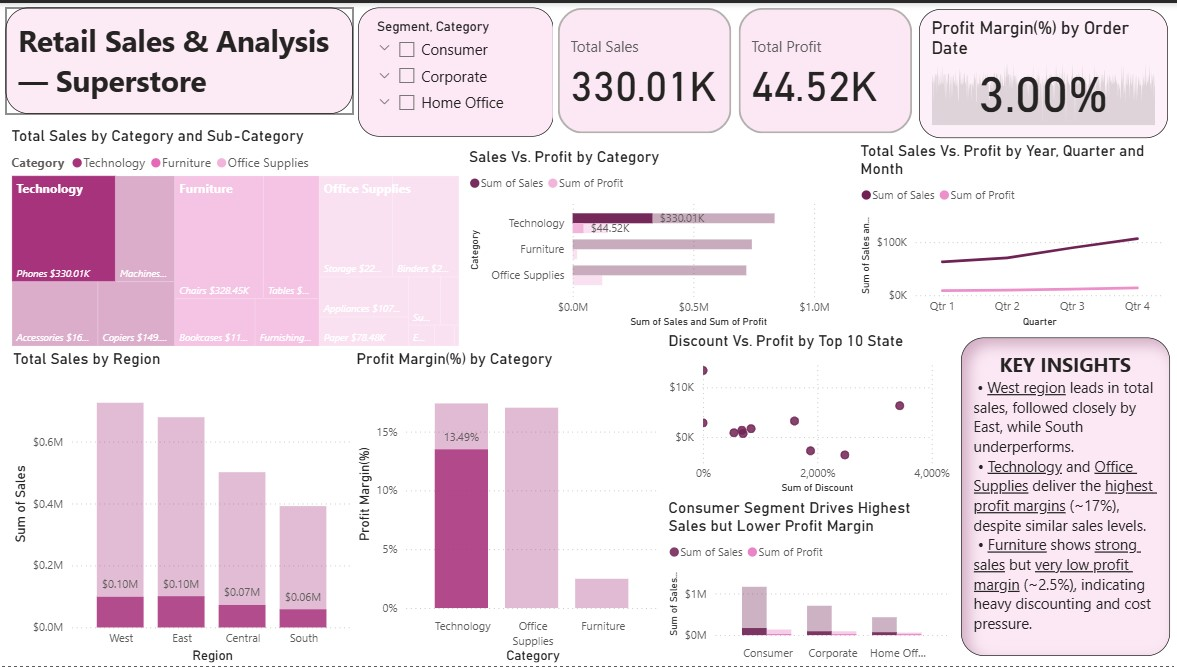

This screenshot's page, from the dashboard's own definition file:
{"tool":"powerbi","page":{"name":"Page 1","canvas":[1280,720],"ordinal":0},"visuals":[{"type":"treemap","title":"Total Sales by Category and Sub-Category","fields":{"Group":["Sample_ Superstore.Category"],"Values":["Sum(Sample_ Superstore.Sales)"],"Details":["Sample_ Superstore.Sub-Category"]},"box":[10,133.3,495,243.3],"z":0},{"type":"clusteredBarChart","title":"Sales Vs. Profit by Category","fields":{"Category":["Sample_ Superstore.Category"],"Y":["Sum(Sample_ Superstore.Sales)","Sum(Sample_ Superstore.Profit)"]},"box":[506,156,412,200],"z":1000},{"type":"columnChart","title":"Total Sales by Region","fields":{"Category":["Sample_ Superstore.Region"],"Y":["Sum(Sample_ Superstore.Sales)"]},"box":[12,376,378,344],"z":2000},{"type":"lineChart","title":"Total Sales Vs. Profit by Year, Quarter and Month","fields":{"Category":["Sample_ Superstore.Order Date.Variation.Date Hierarchy.Year","Sample_ Superstore.Order Date.Variation.Date Hierarchy.Quarter","Sample_ Superstore.Order Date.Variation.Date Hierarchy.Month","Sample_ Superstore.Order Date.Variation.Date Hierarchy.Day"],"Y":["Sum(Sample_ Superstore.Sales)","Sum(Sample_ Superstore.Profit)"]},"box":[930,150,338,206],"z":3000},{"type":"clusteredColumnChart","title":"Consumer Segment Drives Highest Sales but Lower Profit Margin","fields":{"Category":["Sample_ Superstore.Segment"],"Y":["Sum(Sample_ Superstore.Sales)","Sum(Sample_ Superstore.Profit)"]},"box":[721.7,536.7,315,183.3],"z":4000},{"type":"scatterChart","title":"Discount Vs. Profit by Top 10 State","fields":{"Category":["Sample_ Superstore.State"],"X":["Sum(Sample_ Superstore.Discount)"],"Y":["Sum(Sample_ Superstore.Profit)"]},"box":[721.7,356.7,315,180],"z":5000},{"type":"slicer","fields":{"Values":["Sample_ Superstore.Segment","Sample_ Superstore.Category"]},"box":[390,5,211.7,140],"z":6000},{"type":"textbox","box":[8.3,5,376.7,115],"z":7000},{"type":"kpi","fields":{"Indicator":["Sample_Superstore.Profit Margin %"],"TrendLine":["Sample_Superstore.Order Date"]},"box":[998,6,270,140],"z":8000},{"type":"cardVisual","fields":{"Data":["Sample_Superstore.Total Sales","Sample_Superstore.Total Profit"]},"box":[602,0,394,146],"z":9000},{"type":"clusteredColumnChart","fields":{"Y":["Sample_Superstore.Profit Margin(%)"],"Category":["Sample_Superstore.Category"]},"box":[384,376,338,344],"z":10000},{"type":"textbox","box":[1045,363.3,226.7,345],"z":11000}]}

Visuals, with their boxes in screenshot pixels (x1, y1, x2, y2), scaled from the page's 1280x720 canvas onto the 1177x667 screenshot:
"Total Sales by Category and Sub-Category" treemap: 9,123,464,349
"Sales Vs. Profit by Category" clusteredBarChart: 465,145,844,330
"Total Sales by Region" columnChart: 11,348,359,666
"Total Sales Vs. Profit by Year, Quarter and Month" lineChart: 855,139,1166,330
"Consumer Segment Drives Highest Sales but Lower Profit Margin" clusteredColumnChart: 664,497,953,666
"Discount Vs. Profit by Top 10 State" scatterChart: 664,330,953,497
slicer - Sample_ Superstore.Segment x Sample_ Superstore.Category: 359,5,553,134
textbox: 8,5,354,111
kpi - Sample_Superstore.Profit Margin % x Sample_Superstore.Order Date: 918,6,1166,135
cardVisual - Sample_Superstore.Total Sales x Sample_Superstore.Total Profit: 554,0,916,135
clusteredColumnChart - Sample_Superstore.Profit Margin(%) x Sample_Superstore.Category: 353,348,664,666
textbox: 961,337,1169,656
